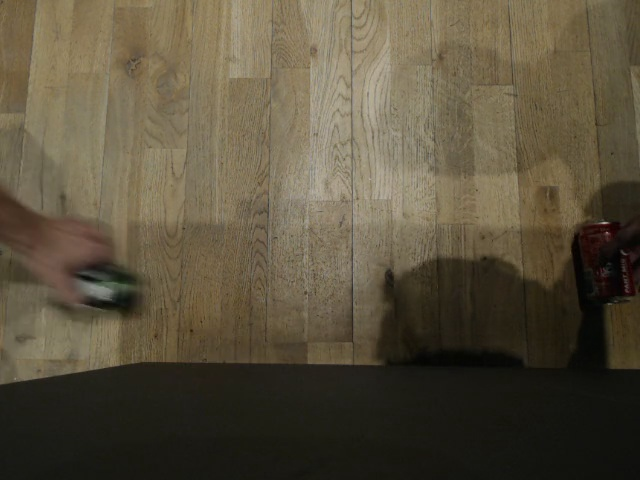beer: (52, 258, 140, 315)
cola: (576, 218, 636, 303)
